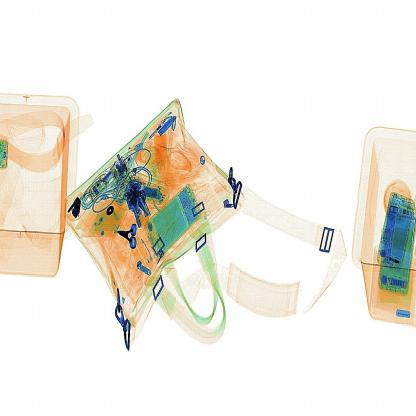gun: (114, 221, 146, 252)
